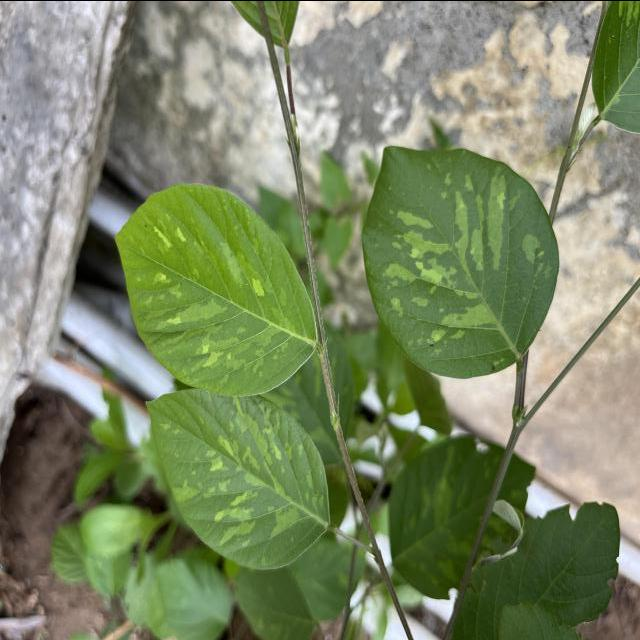Desmodium gangeticum: (359, 140, 563, 382), (113, 180, 318, 398), (142, 386, 332, 572)
